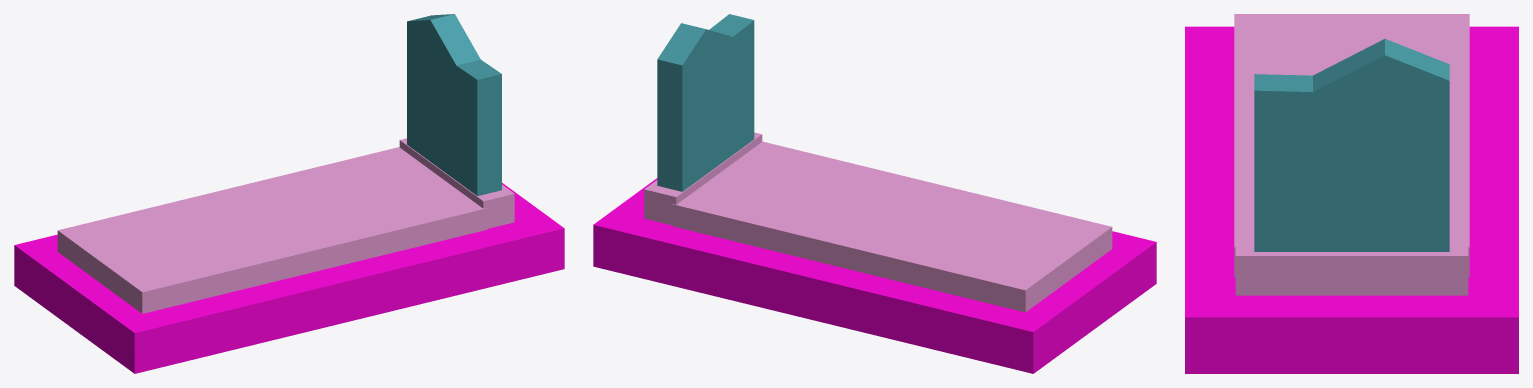
File: Lapida_3.fbx
3 views of the same model, side by side, from view 1: azimuth 30°, elevation 25°; view 2: azimuth 150°, elevation 25°; view 3: azimuth 270°, elevation 25° (orthographic). The views are drawn at different scales.
Visible parts, largest first — view 1: tumba_tumbada; view 2: tumba_tumbada; view 3: tumba_tumbada.
Boxes of the visible parts, x1,y1,x2,y2 form: tumba_tumbada: [14, 14, 564, 373]; tumba_tumbada: [593, 14, 1156, 373]; tumba_tumbada: [1185, 14, 1518, 373].
Bounding box in the file's own units: 7.08 × 3.33 × 3.44.
